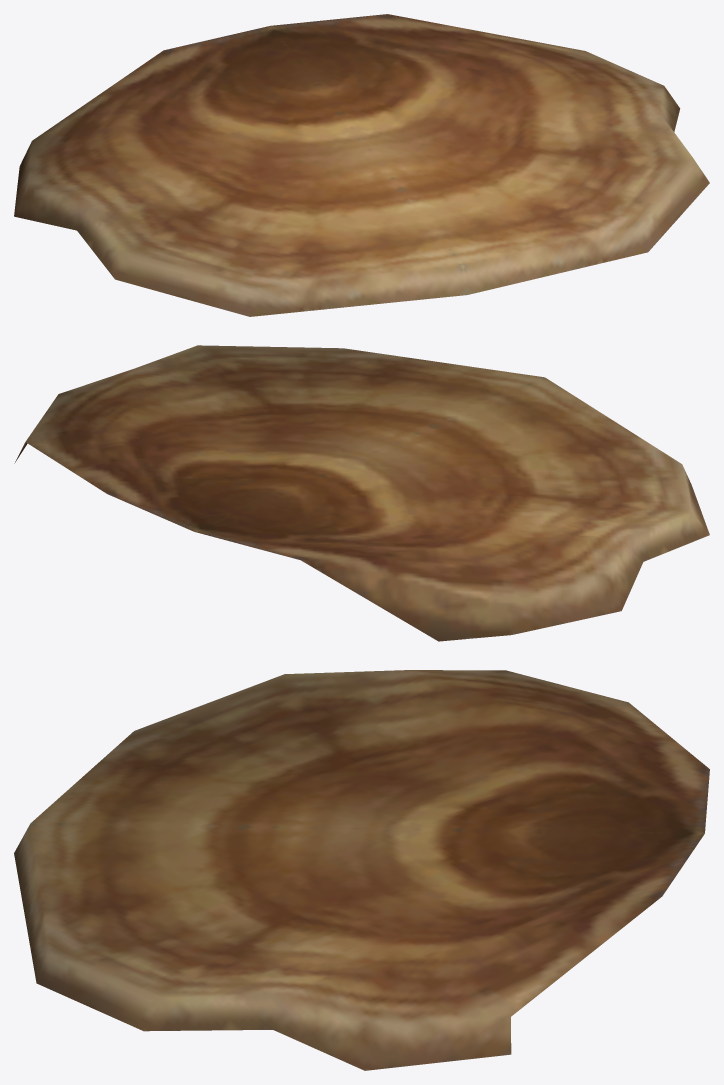
The model's file is S_Build_Village080.FBX.
3 renders of one model, top to bottom at view 1: azimuth 30°, elevation 25°; view 2: azimuth 150°, elevation 25°; view 3: azimuth 270°, elevation 25°, orthographic. The views are drawn at different scales.
Parts seen in each view (by area): view 1: S_Build_Village080; view 2: S_Build_Village080; view 3: S_Build_Village080.
Part boxes in pixels (x1,y1,x2,y2): S_Build_Village080: (14, 14, 709, 316); S_Build_Village080: (14, 345, 709, 641); S_Build_Village080: (14, 670, 709, 1070).
Bounding box in the file's own units: 208 × 20.4 × 162.
